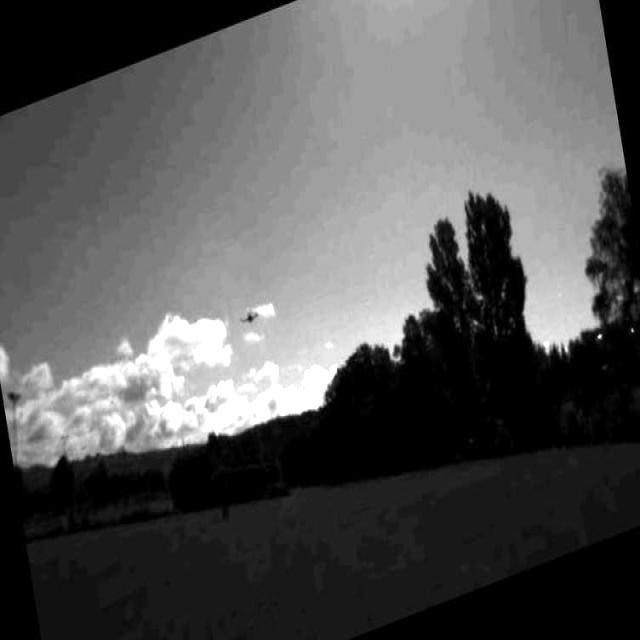drone: (237, 304, 264, 332)
